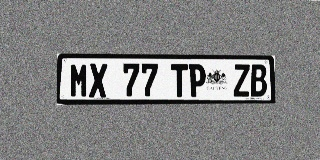7: (122, 64, 140, 97), (140, 64, 158, 97)
B: (250, 64, 267, 97)
M: (70, 63, 88, 98)
P: (188, 64, 206, 97)
T: (171, 64, 188, 97)
X: (89, 63, 107, 97)
Z: (233, 64, 250, 97)
